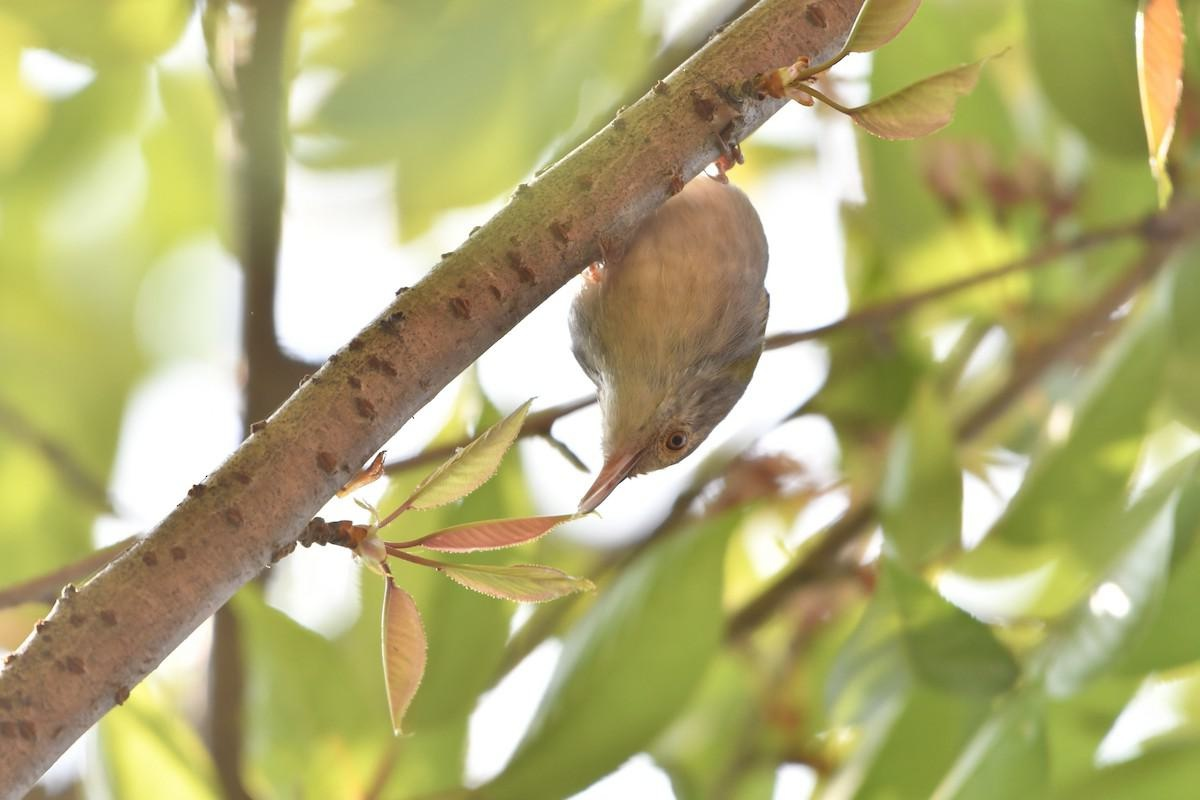tailorbird: (505, 111, 796, 538)
